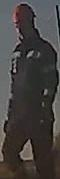gloves: (38, 99, 52, 123), (3, 108, 12, 135)
helmet: (13, 3, 36, 22)
vest: (10, 40, 60, 133)
